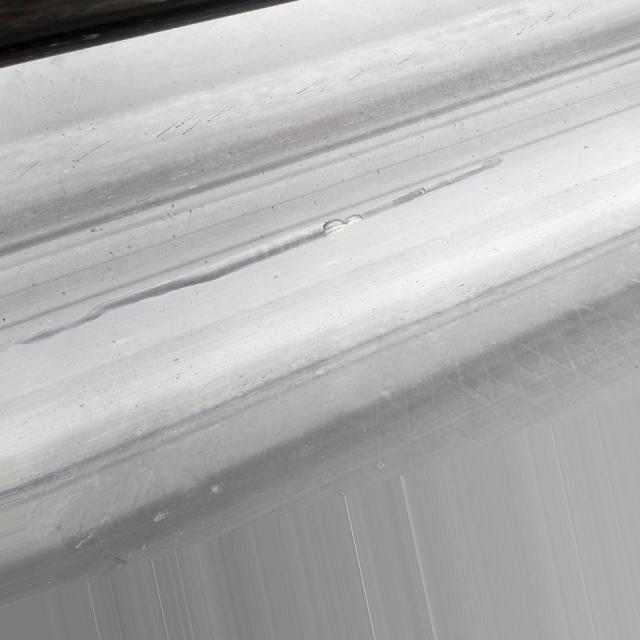Tear: (319, 204, 370, 241)
impact damage: (20, 149, 505, 347)
